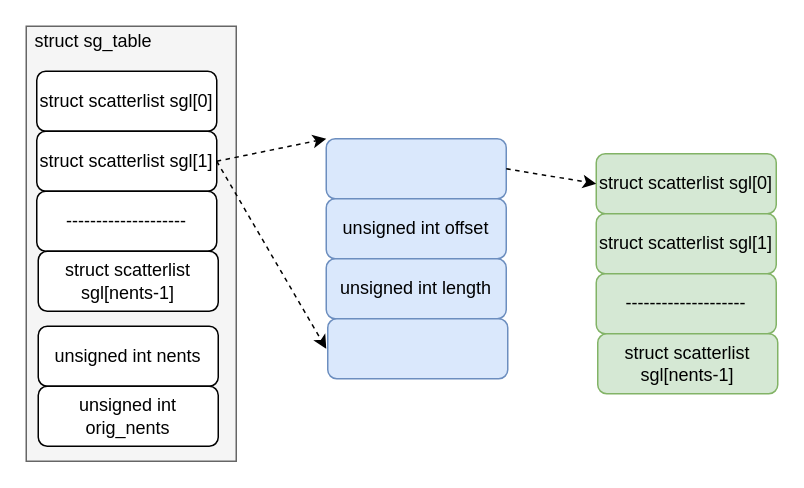
The diagram is 804 pixels wide and 488 high, and some of its shapes have lost their labels. Here are the shapes that lost their labels. From the top down, the centre of each, then its label:
At (415,168): "unsigned long page_link".
At (417,348): "dma_addr_t dma_address".
